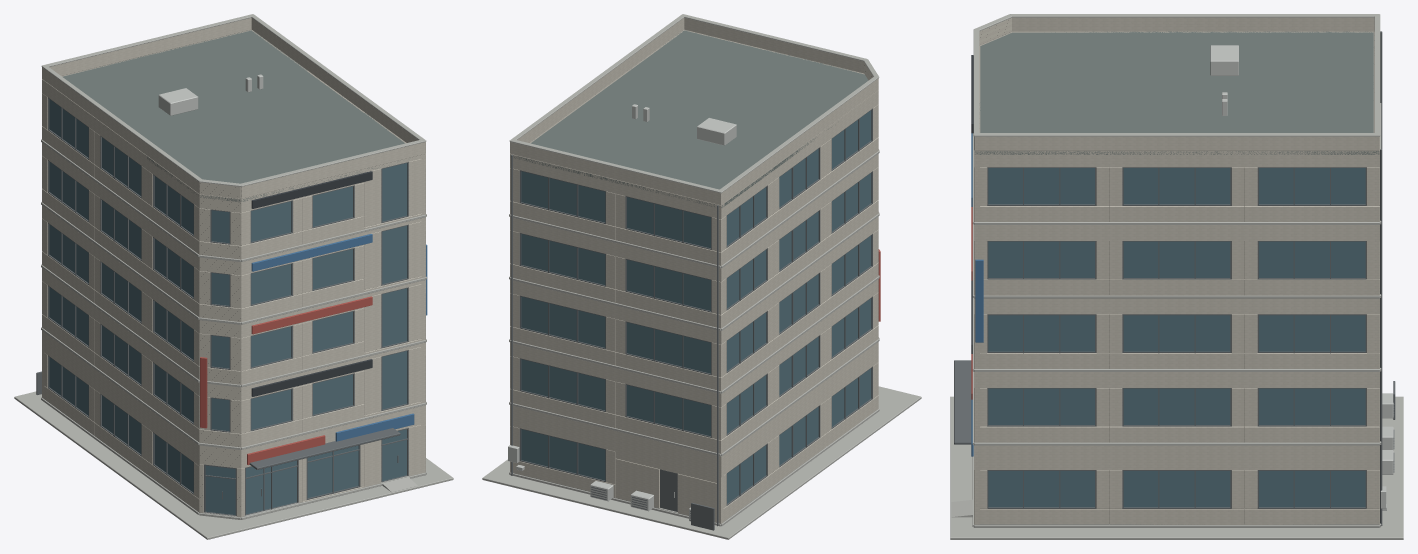
The model's file is COMMERCIAL_01_OLD_MULTI_TENANT.fbx.
The picture shows the model from 3 angles, left to right: view 1: azimuth 30°, elevation 25°; view 2: azimuth 150°, elevation 25°; view 3: azimuth 270°, elevation 25°; orthographic projection. The views are drawn at different scales.
Visible parts, largest first — view 1: UNITY_ASSET_COMMERCIAL_01_OLD_MULTI_TENANT; view 2: UNITY_ASSET_COMMERCIAL_01_OLD_MULTI_TENANT; view 3: UNITY_ASSET_COMMERCIAL_01_OLD_MULTI_TENANT.
Boxes of the visible parts, <box> form: UNITY_ASSET_COMMERCIAL_01_OLD_MULTI_TENANT: <box>14,14,453,539</box>; UNITY_ASSET_COMMERCIAL_01_OLD_MULTI_TENANT: <box>482,14,921,539</box>; UNITY_ASSET_COMMERCIAL_01_OLD_MULTI_TENANT: <box>950,14,1403,539</box>.
Size of the model in its own units: 12.6 by 16.49 by 17.1.
Materials: 9 (1 with a texture image).
